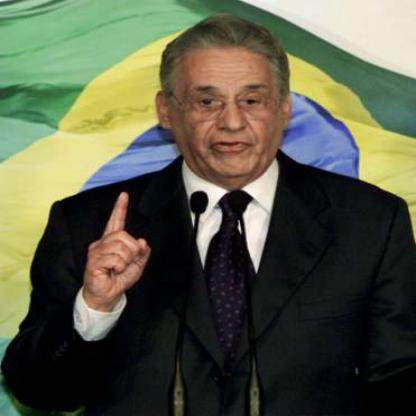face: (170, 24, 287, 180)
